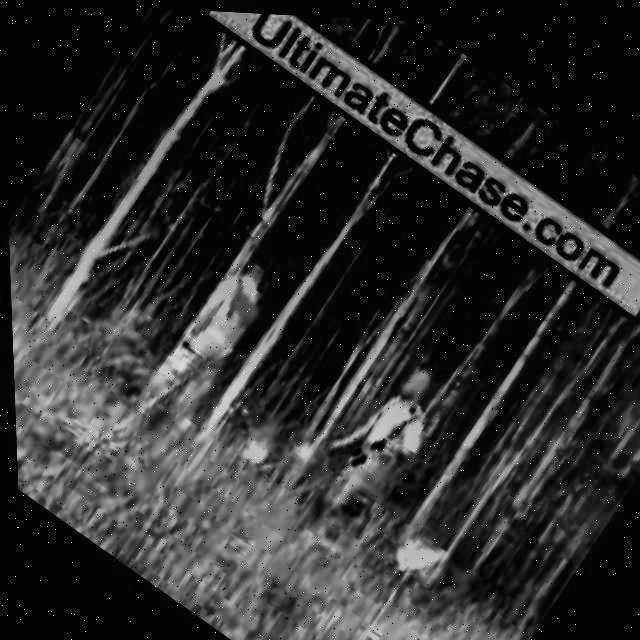Fire: (380, 524, 446, 588), (275, 428, 321, 474), (230, 431, 270, 472), (170, 407, 195, 436)
